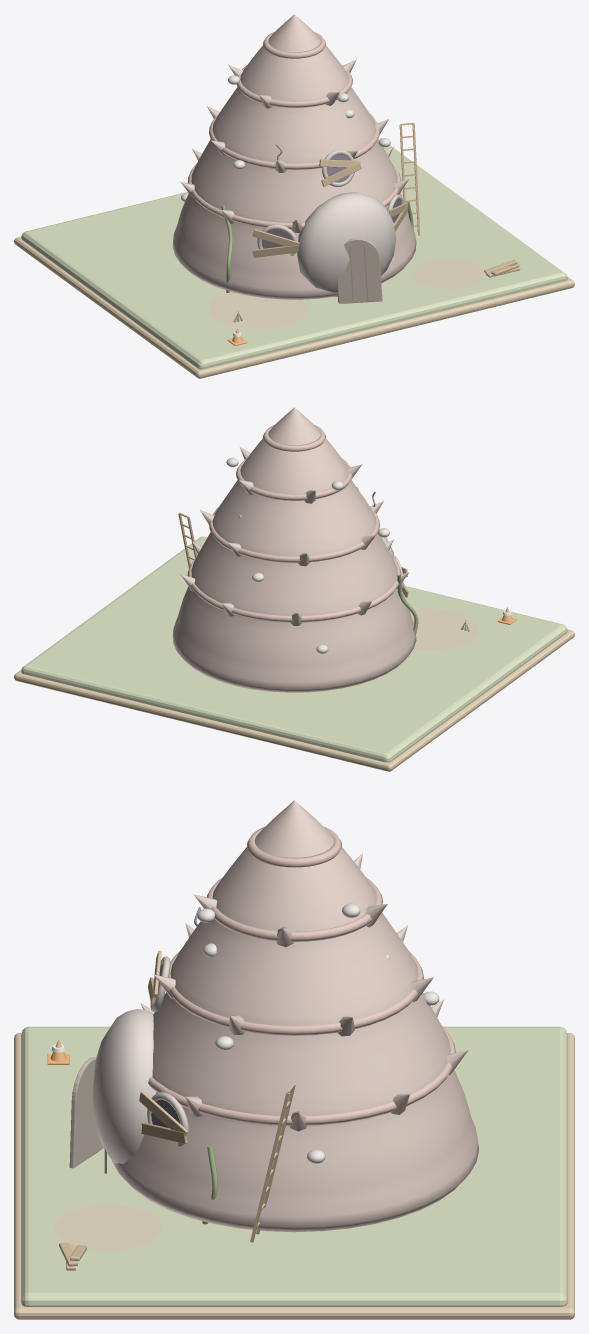
File: building_ocean_L02.glb
The picture shows the model from 3 angles, top to bottom: view 1: azimuth 30°, elevation 25°; view 2: azimuth 150°, elevation 25°; view 3: azimuth 270°, elevation 25°; orthographic projection. The views are drawn at different scales.
Visible parts, largest first — view 1: ocean_L2; view 2: ocean_L2; view 3: ocean_L2.
Boxes of the visible parts, x1=… form: ocean_L2: x1=14, y1=14, x2=574, y2=378; ocean_L2: x1=14, y1=407, x2=574, y2=771; ocean_L2: x1=14, y1=800, x2=574, y2=1319.
Size of the model in its own units: 26.61 by 16.97 by 22.6.
